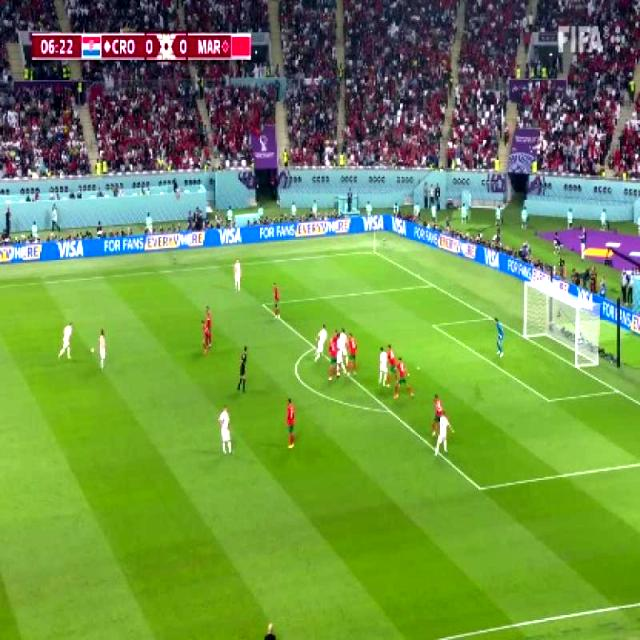bigarea_bottom_inner: (470, 474, 488, 500)
bigarea_top_inner: (255, 294, 270, 312)
bigarea_top_outter: (424, 276, 439, 292)
bottom_arc_area_intersection: (380, 400, 397, 420)
corner: (365, 245, 380, 258)
smallarea_bottom_inner: (540, 388, 557, 410)
smallarea_bottom_outter: (610, 382, 624, 398)
smallarea_top_inner: (426, 316, 440, 334)
smallarea_top_outter: (483, 309, 497, 326)
top_arc_area_intersection: (308, 336, 320, 354)
